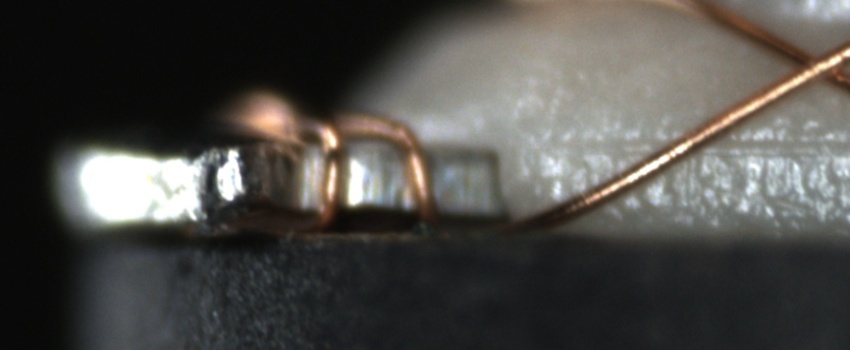CL: (765, 31, 847, 96)
DL: (556, 115, 850, 179)
TE: (229, 84, 450, 228)
